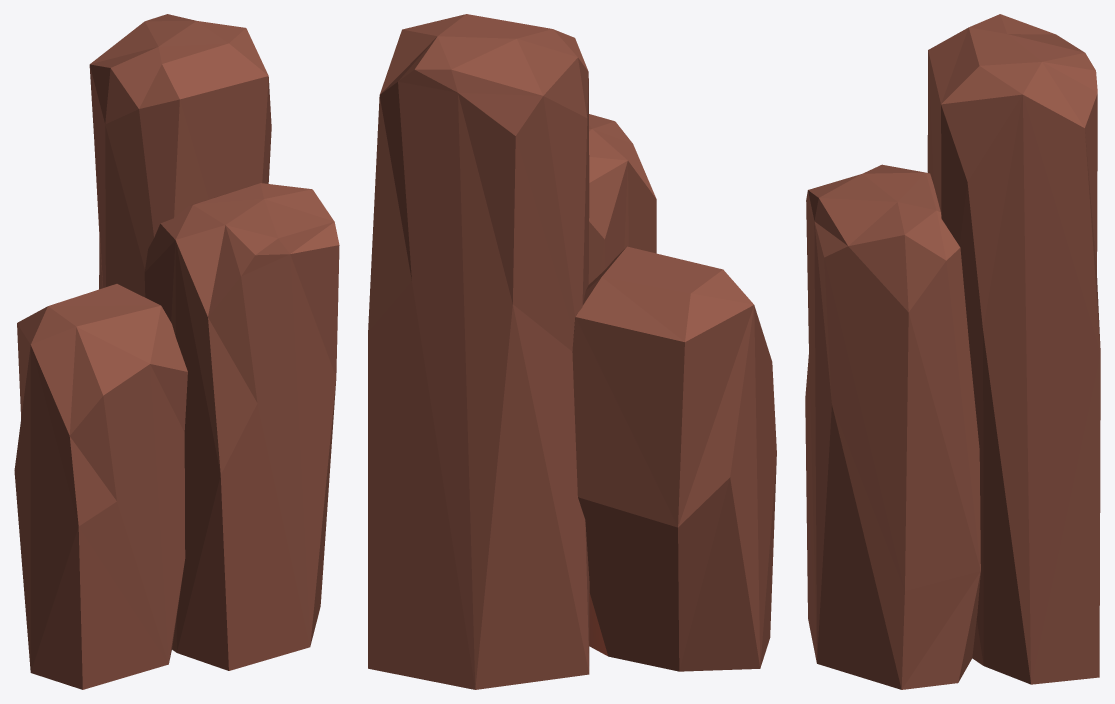
The model's file is crag_008.fbx.
3 renders of one model, left to right at view 1: azimuth 30°, elevation 25°; view 2: azimuth 150°, elevation 25°; view 3: azimuth 270°, elevation 25°, orthographic. The views are drawn at different scales.
Parts seen in each view (by area): view 1: crag_008; view 2: crag_008; view 3: crag_008.
Part boxes in pixels (<box>): crag_008: <box>14,14,339,689</box>; crag_008: <box>368,14,776,689</box>; crag_008: <box>805,14,1100,689</box>.
Size of the model in its own units: 1525 by 1246 by 2777.
